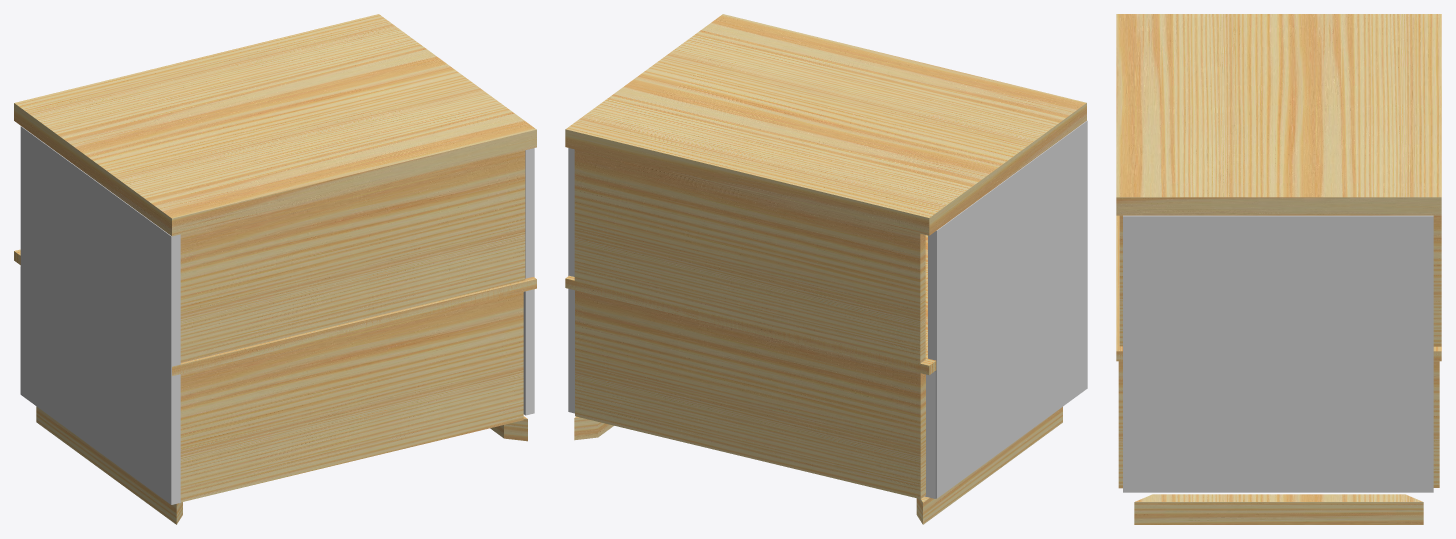
File: desk.dae
3 views of the same model, side by side, from view 1: azimuth 30°, elevation 25°; view 2: azimuth 150°, elevation 25°; view 3: azimuth 270°, elevation 25° (orthographic). The views are drawn at different scales.
Visible parts, largest first — view 1: Group_6 (×2), Group_2, Group_8 (×2), Group_5 (×2), Group_22; view 2: Group_6 (×2), Group_2, Group_8 (×2), Group_5, Group_22 (×2), SketchUp; view 3: Group_8, Group_2, Group_22, Group_6 (×4), Group_5.
Boxes of the visible parts, x1,y1,x2,y2 form: Group_6 (×2): (180, 150, 525, 502); Group_2: (14, 14, 536, 236); Group_8 (×2): (20, 126, 534, 504); Group_5 (×2): (14, 249, 536, 375); Group_22: (36, 406, 182, 524); Group_6 (×2): (574, 149, 925, 498); Group_2: (565, 14, 1086, 235); Group_8 (×2): (568, 120, 1087, 498); Group_5: (565, 278, 929, 374); Group_22 (×2): (574, 407, 1062, 524); SketchUp: (925, 372, 935, 498); Group_8: (1123, 215, 1433, 492); Group_2: (1116, 14, 1441, 215); Group_22: (1134, 494, 1423, 524); Group_6 (×4): (1118, 215, 1441, 488); Group_5: (1116, 215, 1441, 351).
Size of the model in its own units: 23.73 by 17.72 by 19.69.
Materials: 5 (3 with a texture image).
